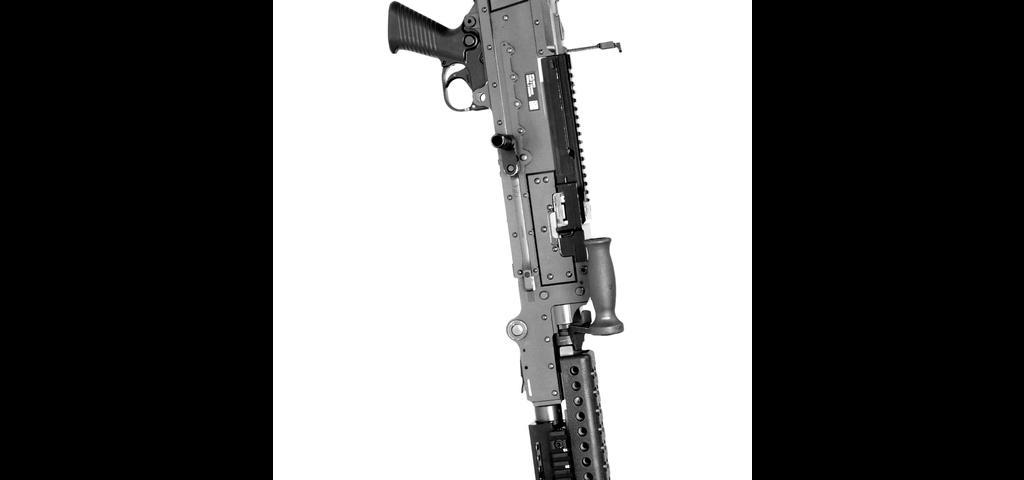gun: (330, 0, 647, 480)
